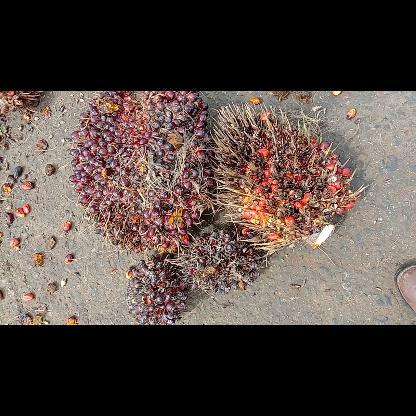TBS abnormal: (176, 224, 268, 294), (126, 258, 188, 324)
TBS masak: (67, 92, 213, 254)
Terlalu masak: (208, 104, 358, 257)
